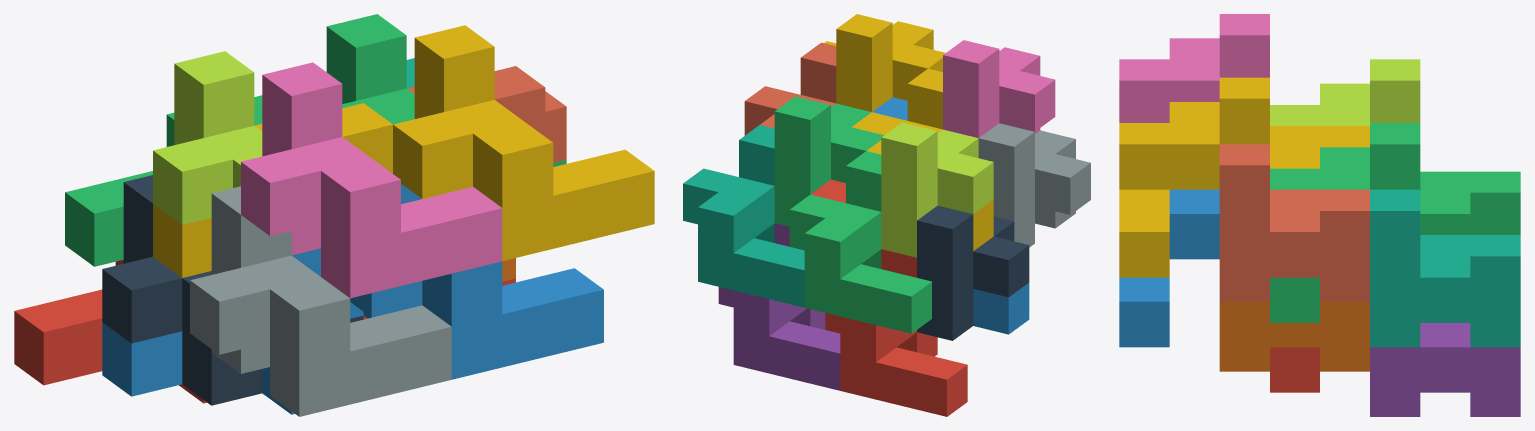
File: tiling.obj
3 renders of one model, left to right at view 1: azimuth 30°, elevation 25°; view 2: azimuth 150°, elevation 25°; view 3: azimuth 270°, elevation 25°, orthographic. The views are drawn at different scales.
Visible parts, largest first — view 1: copy_2_domain_4, copy_2_domain_2, copy_2_domain_8, copy_2_domain_6, copy_2_domain_3, copy_2_domain_1, copy_2_domain_7, copy_1_domain_1, copy_1_domain_4, copy_1_domain_2, copy_1_domain_3, copy_1_domain_8; view 2: copy_1_domain_3, copy_1_domain_7, copy_2_domain_3, copy_1_domain_1, copy_2_domain_1, copy_2_domain_2, copy_2_domain_4, copy_1_domain_5, copy_2_domain_7, copy_2_domain_8, copy_1_domain_4, copy_1_domain_8 (+3 smaller); view 3: copy_1_domain_7, copy_1_domain_8, copy_2_domain_8, copy_1_domain_5, copy_2_domain_4, copy_2_domain_7, copy_1_domain_6, copy_2_domain_6, copy_1_domain_3, copy_2_domain_3, copy_1_domain_4, copy_2_domain_5.
Boxes of the visible parts, left/top/right/bottom form: copy_2_domain_4: left=241, top=62, right=502, bottom=298; copy_2_domain_2: left=190, top=186, right=451, bottom=416; copy_2_domain_8: left=393, top=25, right=654, bottom=261; copy_2_domain_6: left=350, top=183, right=603, bottom=379; copy_2_domain_3: left=153, top=51, right=262, bottom=224; copy_2_domain_1: left=102, top=175, right=363, bottom=405; copy_2_domain_7: left=326, top=14, right=566, bottom=166; copy_1_domain_1: left=14, top=260, right=206, bottom=403; copy_1_domain_4: left=153, top=103, right=392, bottom=277; copy_1_domain_2: left=102, top=248, right=363, bottom=414; copy_1_domain_3: left=65, top=95, right=262, bottom=266; copy_1_domain_8: left=407, top=66, right=566, bottom=162; copy_1_domain_3: left=789, top=151, right=931, bottom=333; copy_1_domain_7: left=683, top=125, right=804, bottom=307; copy_2_domain_3: left=881, top=122, right=993, bottom=257; copy_1_domain_1: left=825, top=249, right=967, bottom=416; copy_2_domain_1: left=917, top=205, right=1029, bottom=340; copy_2_domain_2: left=978, top=123, right=1090, bottom=247; copy_2_domain_4: left=943, top=40, right=1055, bottom=137; copy_1_domain_5: left=718, top=223, right=840, bottom=390; copy_2_domain_7: left=774, top=96, right=883, bottom=226; copy_2_domain_8: left=824, top=14, right=945, bottom=111; copy_1_domain_4: left=852, top=68, right=993, bottom=250; copy_1_domain_8: left=744, top=42, right=836, bottom=135; copy_1_domain_7: left=1370, top=189, right=1520, bottom=347; copy_1_domain_8: left=1219, top=144, right=1369, bottom=301; copy_2_domain_8: left=1119, top=77, right=1269, bottom=277; copy_1_domain_5: left=1370, top=323, right=1520, bottom=416; copy_2_domain_4: left=1119, top=14, right=1269, bottom=122; copy_2_domain_7: left=1270, top=123, right=1420, bottom=322; copy_1_domain_6: left=1219, top=301, right=1369, bottom=371; copy_2_domain_6: left=1119, top=189, right=1219, bottom=347; copy_1_domain_3: left=1420, top=171, right=1520, bottom=234; copy_2_domain_3: left=1270, top=59, right=1420, bottom=125; copy_1_domain_4: left=1270, top=126, right=1369, bottom=168; copy_2_domain_5: left=1270, top=347, right=1319, bottom=392.
Size of the model in its own units: 8 by 7 by 8.
